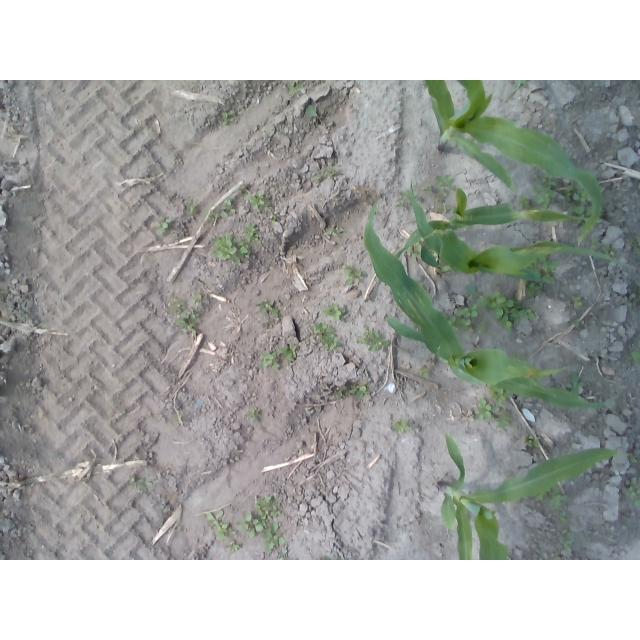Maize: (364, 203, 620, 410), (424, 80, 604, 246), (407, 177, 640, 282), (439, 432, 618, 560)
Weeds: (477, 289, 537, 334), (564, 177, 594, 225), (210, 232, 250, 264), (533, 173, 560, 211), (444, 303, 477, 334), (206, 509, 237, 540), (310, 321, 342, 351), (533, 483, 568, 510), (524, 251, 560, 277), (204, 198, 237, 224), (358, 327, 391, 352), (235, 512, 265, 538), (262, 520, 286, 552), (175, 307, 202, 335), (254, 496, 282, 521), (487, 382, 514, 406), (473, 398, 500, 422), (566, 372, 587, 396), (246, 190, 271, 210), (341, 263, 363, 285), (323, 303, 346, 322), (560, 530, 577, 554), (346, 382, 371, 398), (405, 237, 424, 258), (257, 299, 279, 317), (626, 479, 640, 507), (279, 344, 298, 364), (495, 408, 513, 429), (395, 190, 417, 207), (260, 351, 280, 369), (391, 418, 413, 434), (130, 475, 154, 489), (525, 280, 544, 297), (435, 174, 454, 191), (243, 223, 259, 243), (168, 296, 186, 313), (155, 217, 171, 236), (288, 81, 307, 96), (524, 432, 541, 448), (628, 342, 640, 363), (628, 234, 640, 255), (518, 194, 533, 210), (223, 110, 238, 126), (305, 105, 321, 119), (324, 227, 344, 237), (466, 285, 479, 300), (247, 408, 261, 421), (603, 242, 616, 256), (187, 198, 198, 214), (556, 511, 568, 525), (508, 350, 524, 360), (573, 295, 583, 310), (324, 166, 339, 175), (334, 386, 344, 399), (191, 292, 201, 305), (228, 541, 240, 551), (590, 239, 602, 249), (419, 367, 429, 378), (435, 191, 446, 201), (572, 317, 581, 328), (629, 453, 638, 464), (172, 413, 180, 424), (636, 280, 640, 300), (426, 183, 434, 192), (269, 214, 277, 223), (437, 206, 447, 213), (430, 250, 438, 258), (314, 174, 323, 181), (626, 301, 633, 307), (554, 556, 563, 560)
